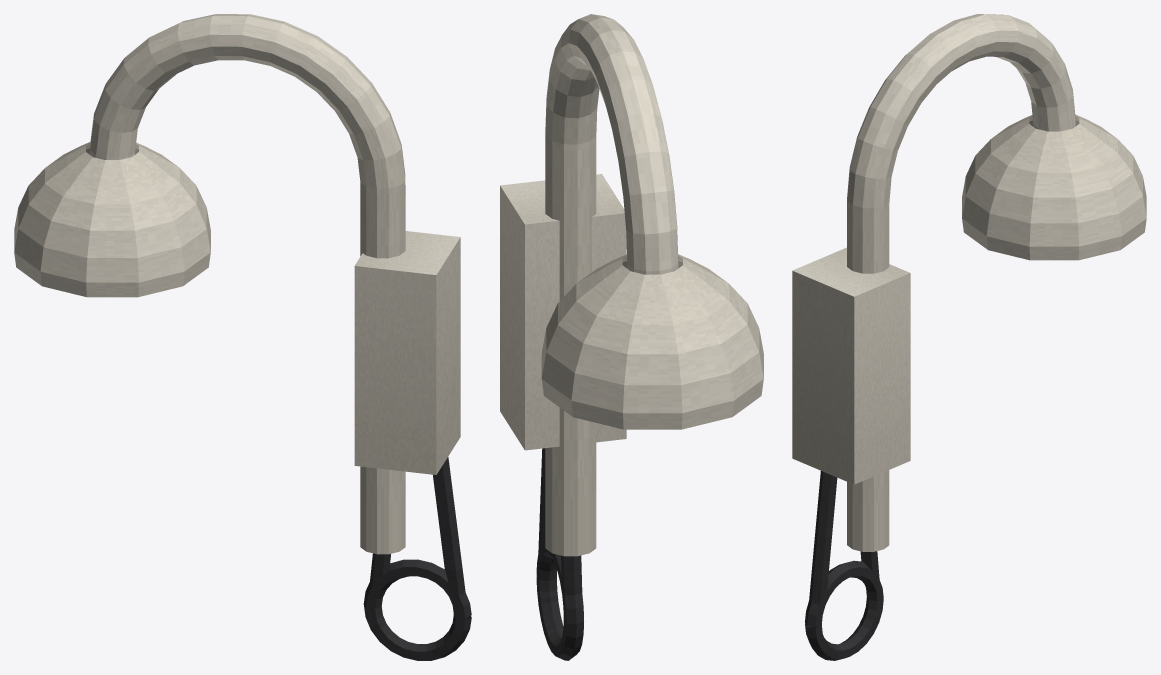
Rendered from miovision_360_diagl.obj.
3 views of the same model, side by side, from view 1: azimuth 30°, elevation 25°; view 2: azimuth 150°, elevation 25°; view 3: azimuth 270°, elevation 25° (orthographic). The views are drawn at different scales.
Parts seen in each view (by area): view 1: miovision360; view 2: miovision360; view 3: miovision360.
Part boxes in pixels (left/top/right/bottom): miovision360: left=14, top=14, right=471, bottom=660; miovision360: left=500, top=14, right=763, bottom=660; miovision360: left=792, top=14, right=1146, bottom=660.
Size of the model in its own units: 0.8894 by 1.63 by 0.8894.
